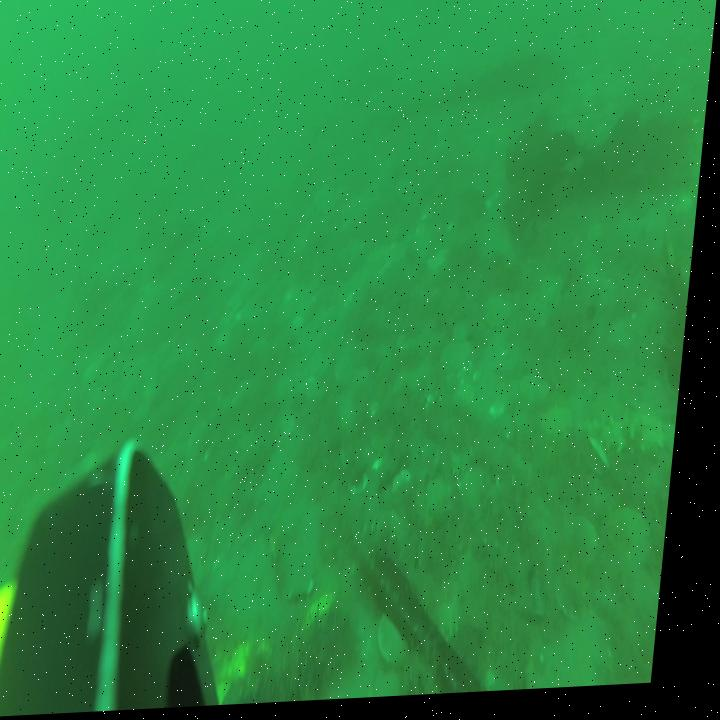scallop: (614, 512, 665, 587), (570, 523, 613, 584), (388, 615, 429, 671), (550, 410, 581, 459), (447, 341, 480, 380), (526, 377, 561, 412), (489, 299, 518, 338)
